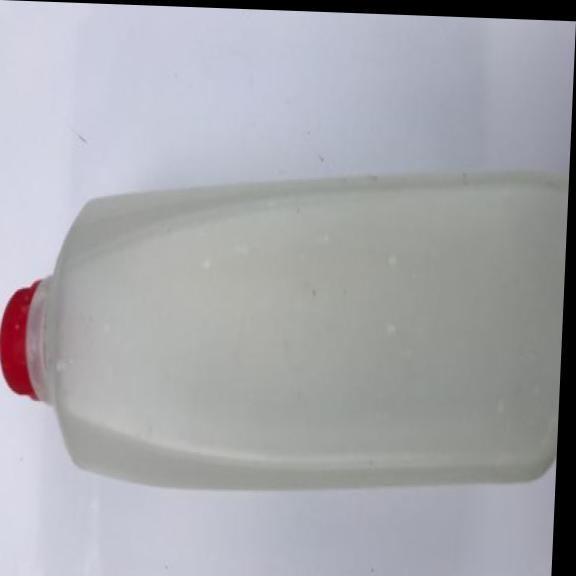Plastik: (0, 152, 568, 501)
